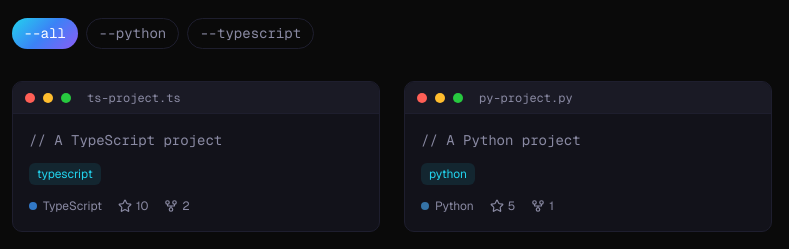
ProjectsClient › filters by language when clicking a filter
Click the button "--python" at [133, 34], box [86,18,179,49]
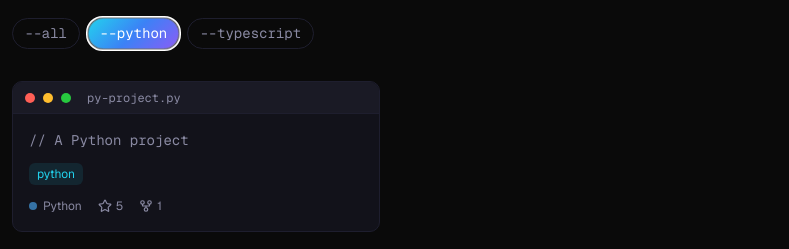
Expected: the text "py-project.py" is shown, [87,88,181,106]
Now the link "ts-project" is gone
